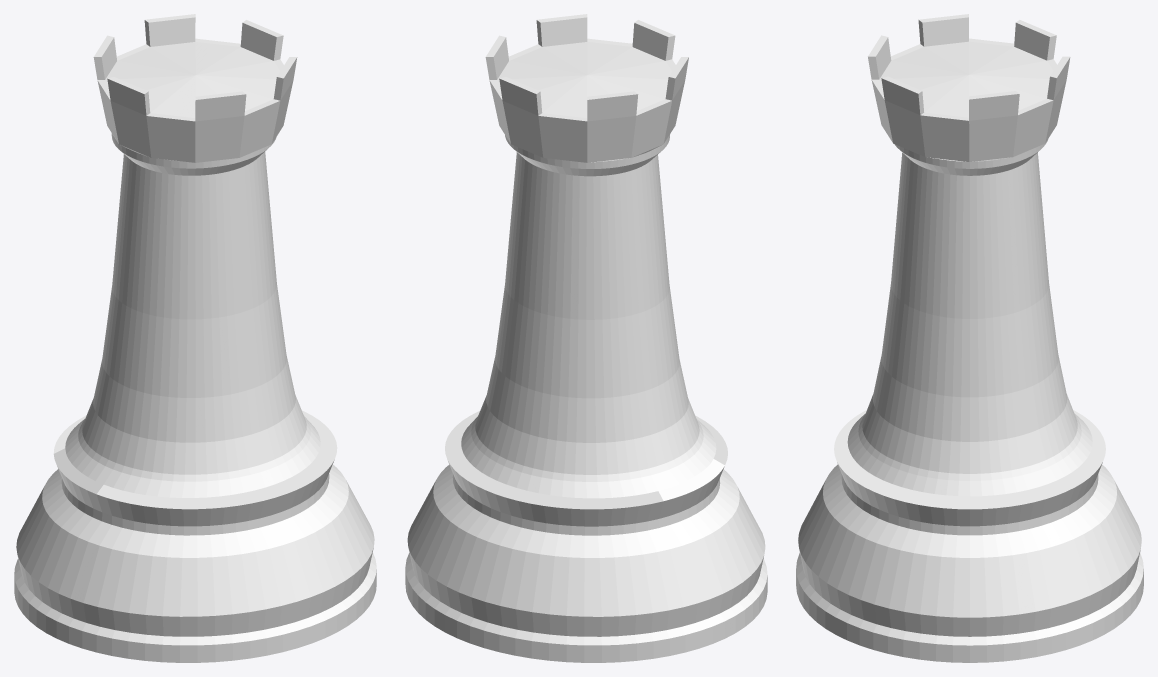
Rendered from RookFileW.glb.
3 renders of one model, left to right at view 1: azimuth 30°, elevation 25°; view 2: azimuth 150°, elevation 25°; view 3: azimuth 270°, elevation 25°, orthographic.
Visible parts, largest first — view 1: RookA8; view 2: RookA8; view 3: RookA8.
Boxes of the visible parts, x1,y1,x2,y2 form: RookA8: (14, 14, 376, 662); RookA8: (405, 14, 767, 662); RookA8: (796, 14, 1143, 662).
Bounding box in the file's own units: 1.05 × 1.68 × 0.9981.
Materials: 1 (1 with a texture image).
